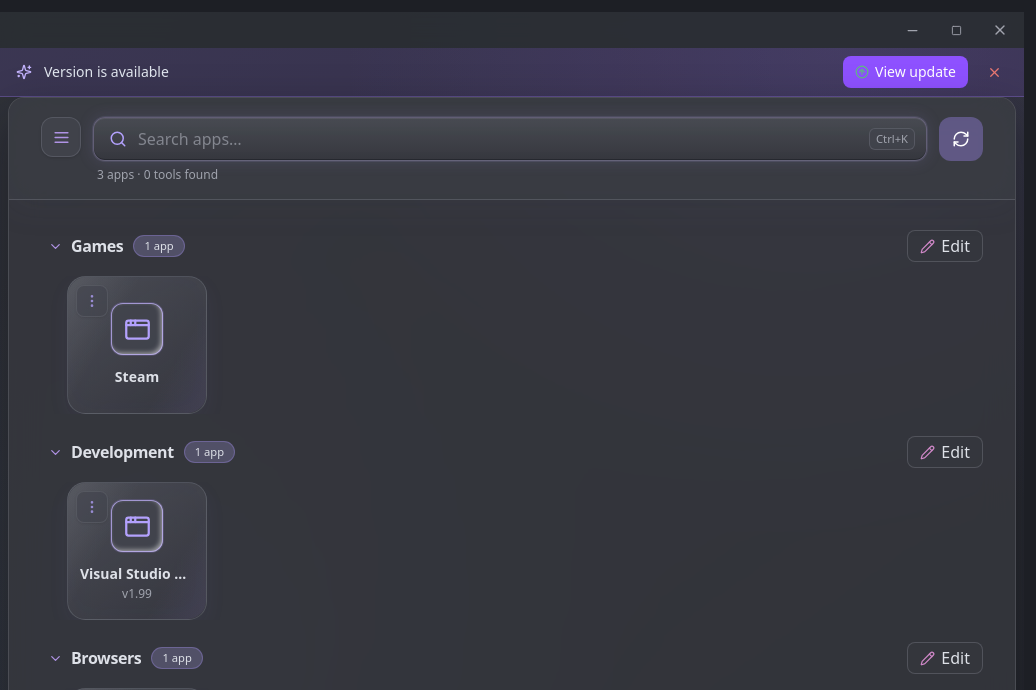
Test case: App › reveals search matches from a collapsed category
Expected: the text "Visual Studio Code" is shown, x1=80 y1=564 x2=194 y2=584
Click the button named "Collapse Development".
click(122, 452)  # box x1=41 y1=434 x2=899 y2=470
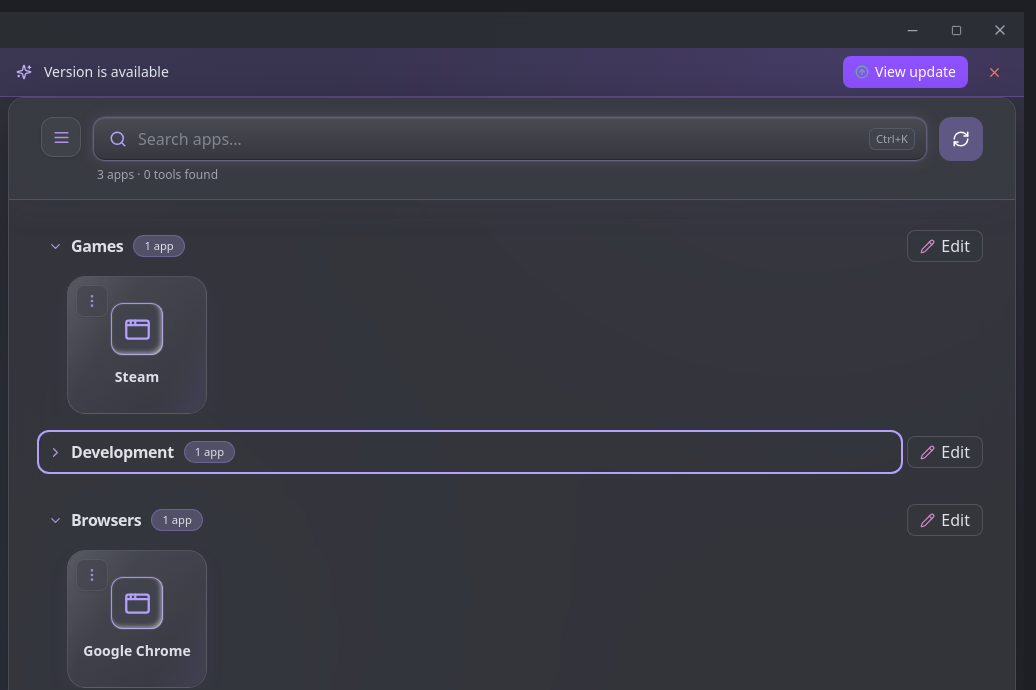
Type "visual" into the field with placeholder "Search apps…".
click(510, 139); type("visual")  # box x1=93 y1=117 x2=927 y2=161
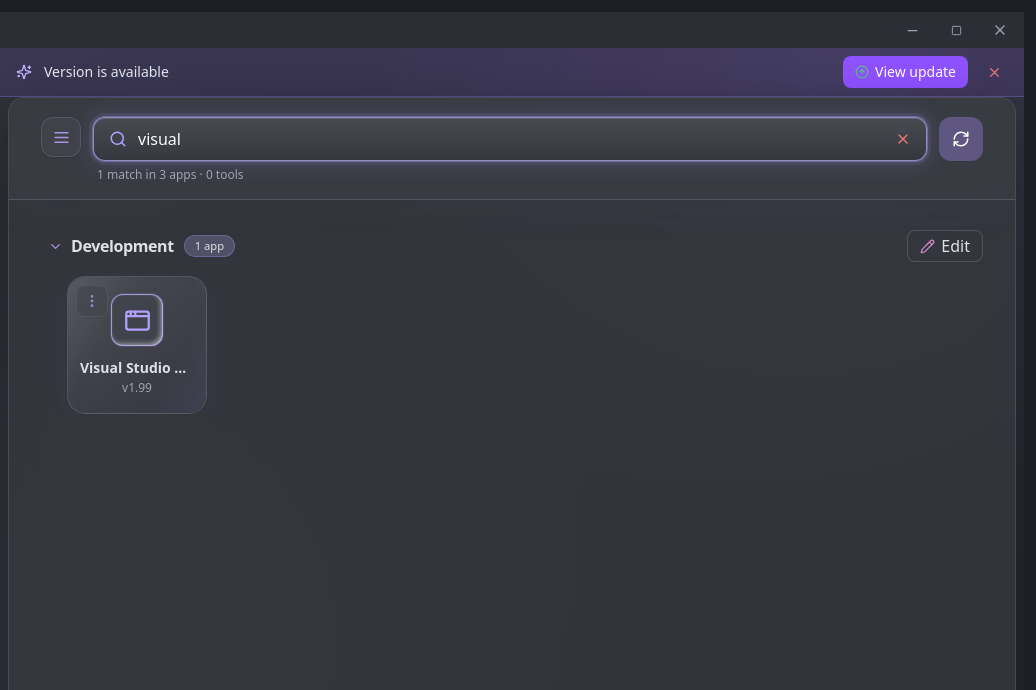
Expected: the text "Visual Studio Code" is shown, x1=80 y1=358 x2=194 y2=378
